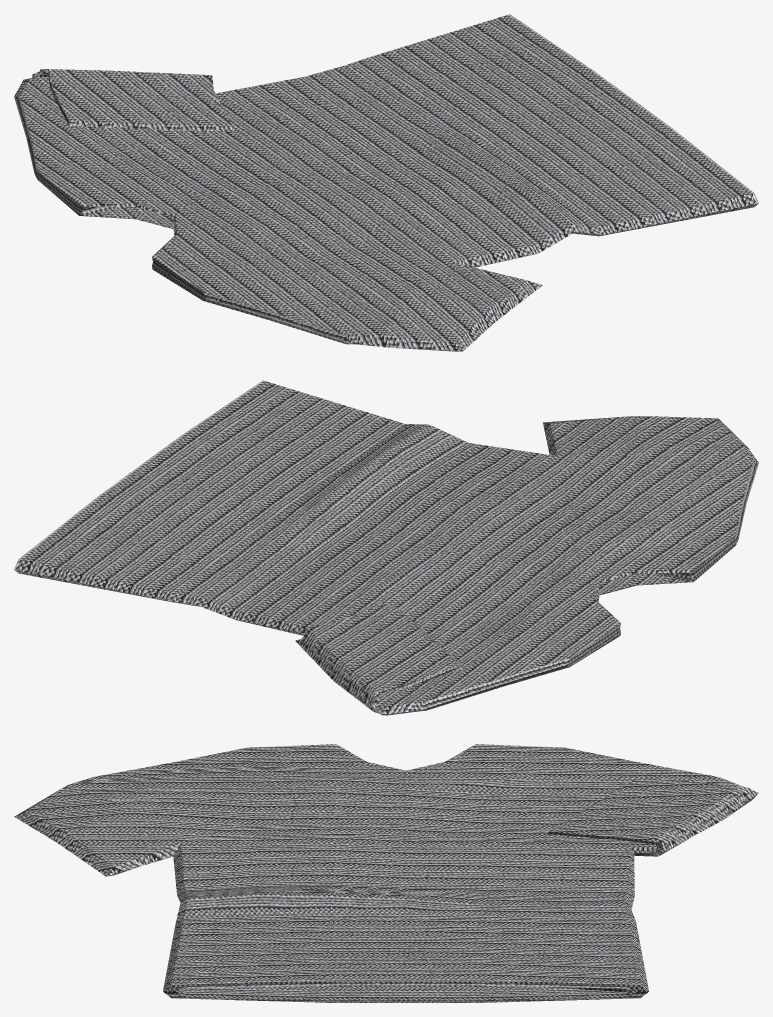
File: camiseta2.fbx
The picture shows the model from 3 angles, top to bottom: view 1: azimuth 30°, elevation 25°; view 2: azimuth 150°, elevation 25°; view 3: azimuth 270°, elevation 25°; orthographic projection. The views are drawn at different scales.
Parts seen in each view (by area): view 1: shirt2:Mesh; view 2: shirt2:Mesh; view 3: shirt2:Mesh.
Boxes of the visible parts, <box> form: shirt2:Mesh: <box>14,14,758,351</box>; shirt2:Mesh: <box>14,380,758,715</box>; shirt2:Mesh: <box>14,744,758,1002</box>.
Size of the model in its own units: 2.45 by 0.1279 by 3.18.
Materials: 1 (1 with a texture image).
